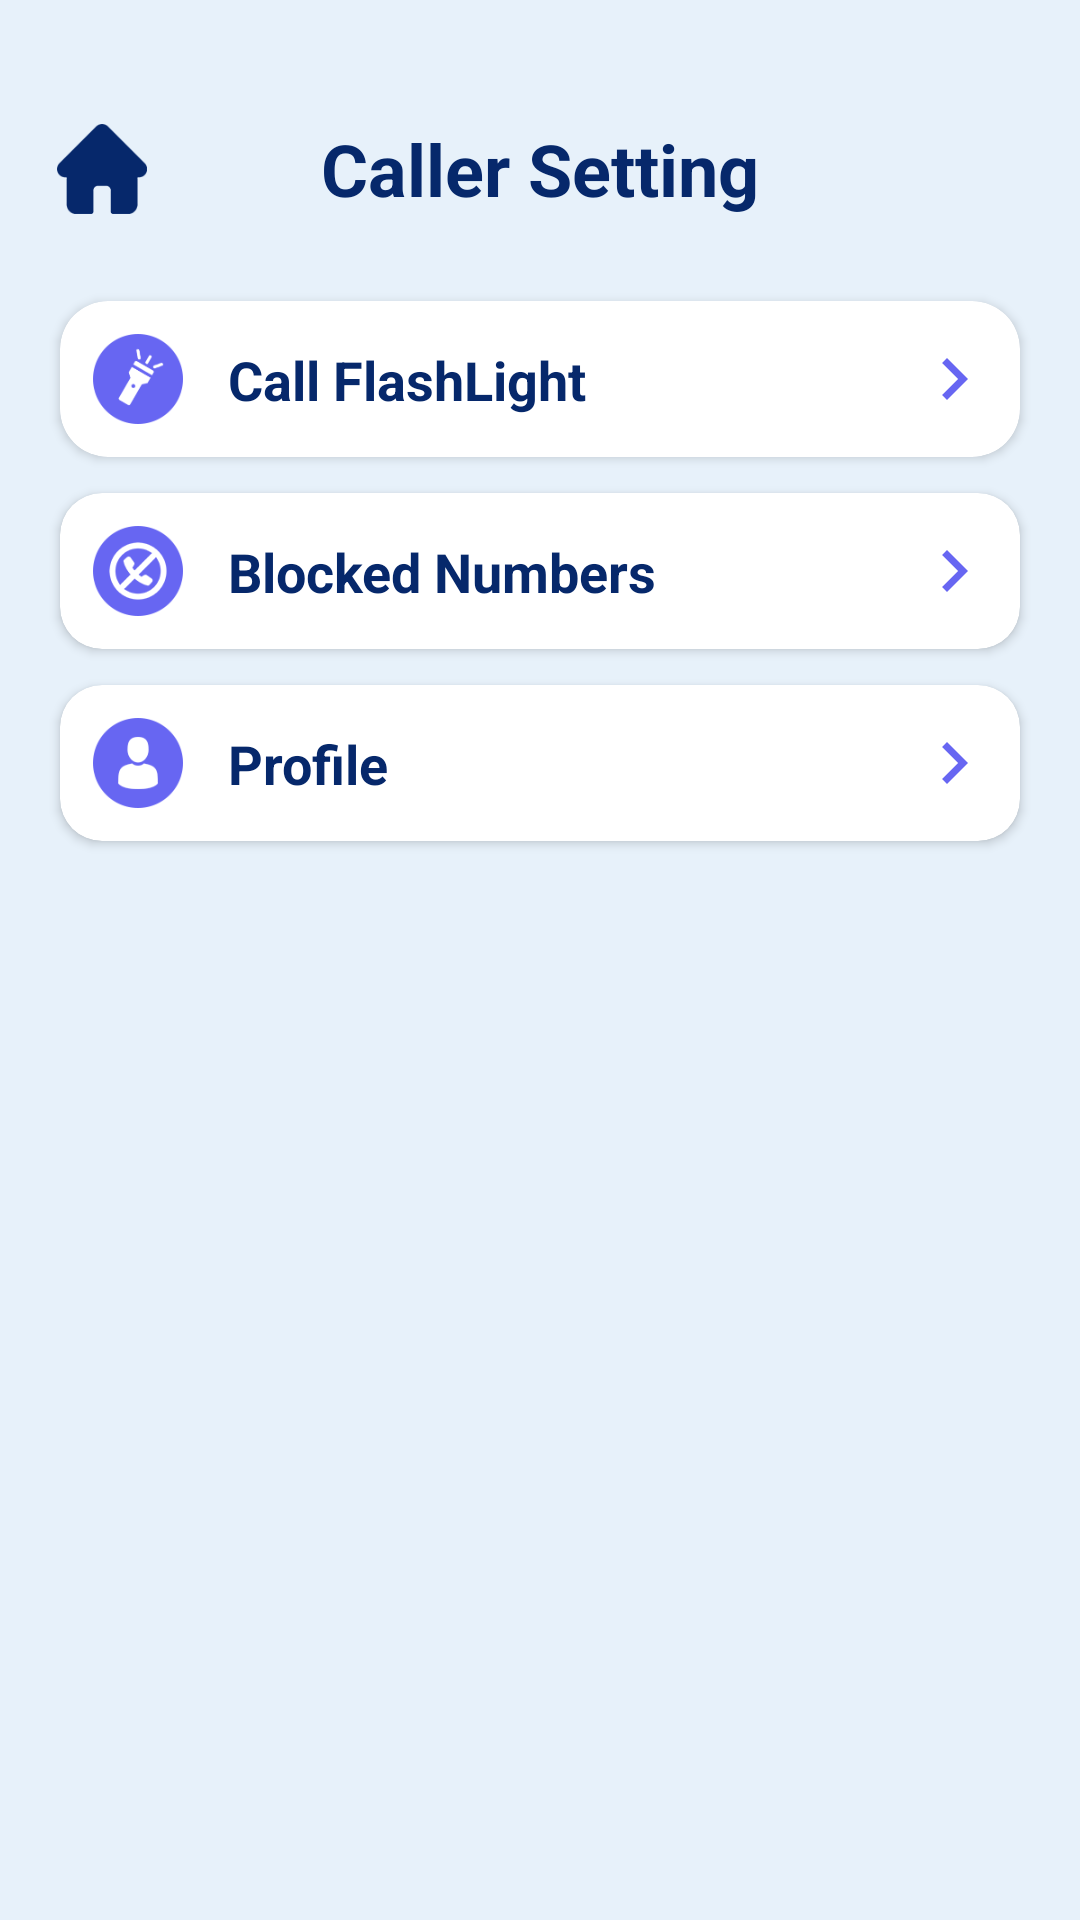

Where icons sit on this 1080×1920 app screen, as {"x1": x1, "y1": y1, "x2": x2, "y2": y2}:
arrow right: {"x1": 942, "y1": 358, "x2": 968, "y2": 400}, {"x1": 942, "y1": 550, "x2": 968, "y2": 592}, {"x1": 942, "y1": 742, "x2": 968, "y2": 784}
home: {"x1": 57, "y1": 124, "x2": 147, "y2": 214}
